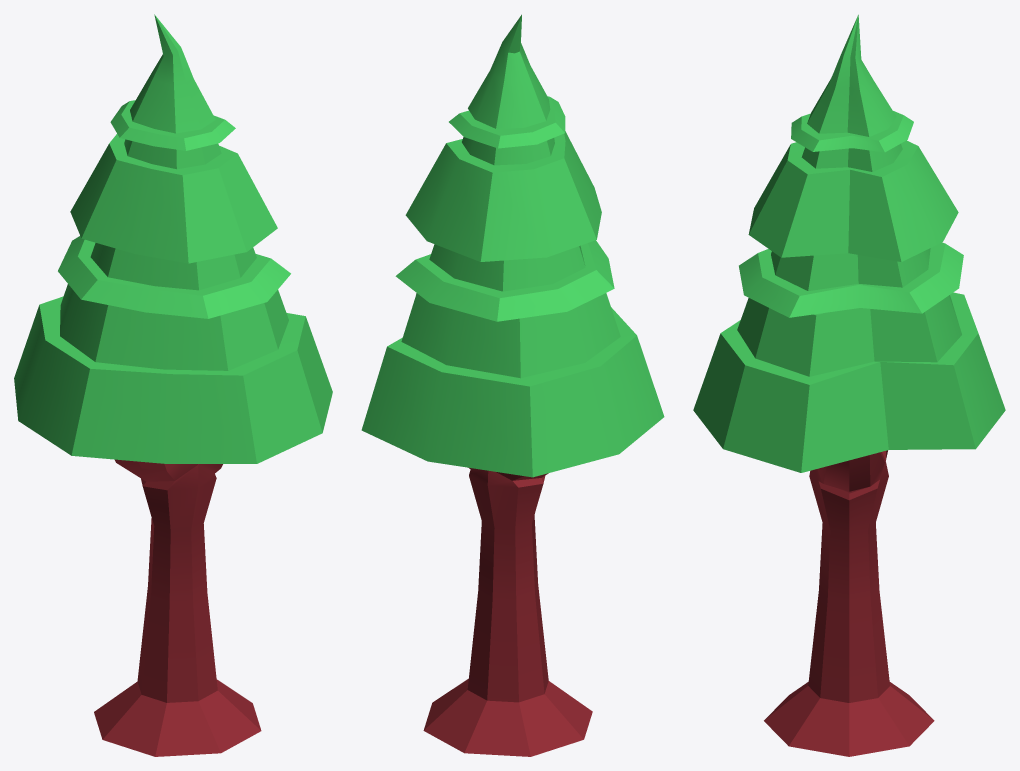
File: Arvore02.fbx
3 renders of one model, left to right at view 1: azimuth 30°, elevation 25°; view 2: azimuth 150°, elevation 25°; view 3: azimuth 270°, elevation 25°, orthographic. The views are drawn at different scales.
Visible parts, largest first — view 1: arvore_02; view 2: arvore_02; view 3: arvore_02.
Boxes of the visible parts, bbox=[...] form: arvore_02: bbox=[14, 14, 332, 756]; arvore_02: bbox=[361, 14, 664, 756]; arvore_02: bbox=[693, 14, 1005, 756].
Bounding box in the file's own units: 444 × 1132 × 460.
